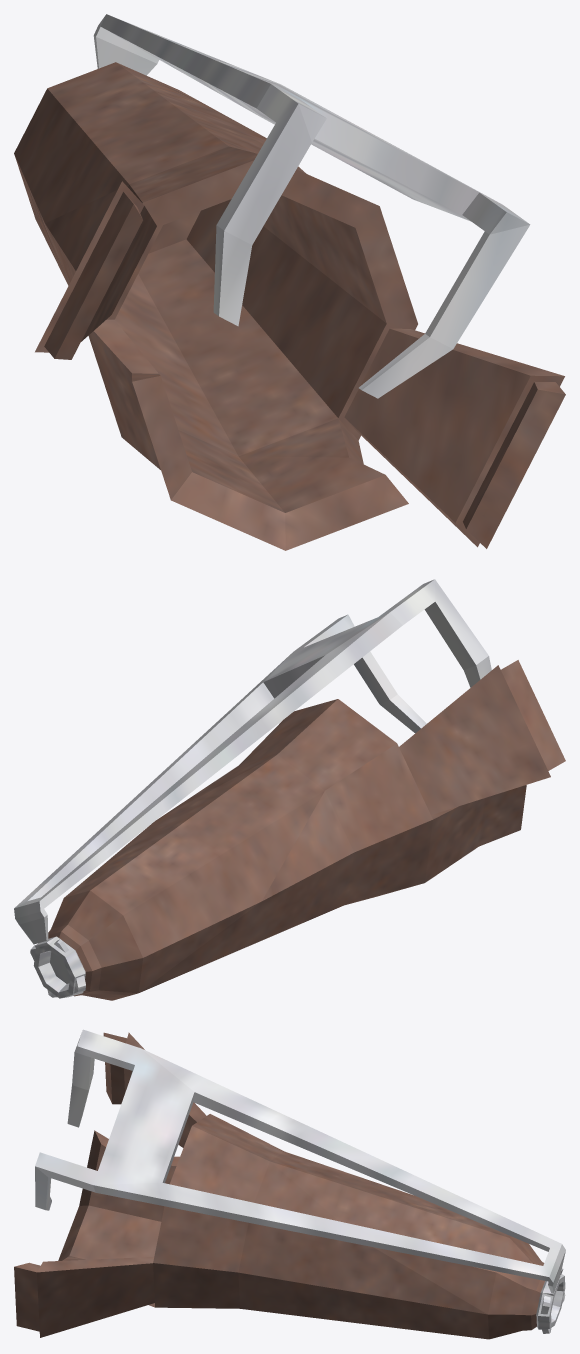
Rendered from Prostetic1_.fbx.
3 views of the same model, one above another, from view 1: azimuth 30°, elevation 25°; view 2: azimuth 150°, elevation 25°; view 3: azimuth 270°, elevation 25° (orthographic). The views are drawn at different scales.
Visible parts, largest first — view 1: Prostetic_Forearm; view 2: Prostetic_Forearm; view 3: Prostetic_Forearm.
Part boxes in pixels (x1=…): Prostetic_Forearm: x1=14, y1=14, x2=565, y2=550; Prostetic_Forearm: x1=14, y1=579, x2=565, y2=1000; Prostetic_Forearm: x1=14, y1=1029, x2=565, y2=1339.
Size of the model in its own units: 52.9 by 46.85 by 87.64.
